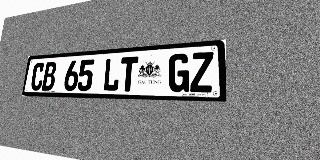5: (77, 59, 95, 91)
6: (63, 60, 80, 91)
B: (41, 62, 57, 91)
C: (30, 62, 45, 91)
G: (168, 53, 190, 92)
L: (102, 57, 121, 91)
T: (119, 56, 138, 92)
Z: (190, 52, 213, 92)
